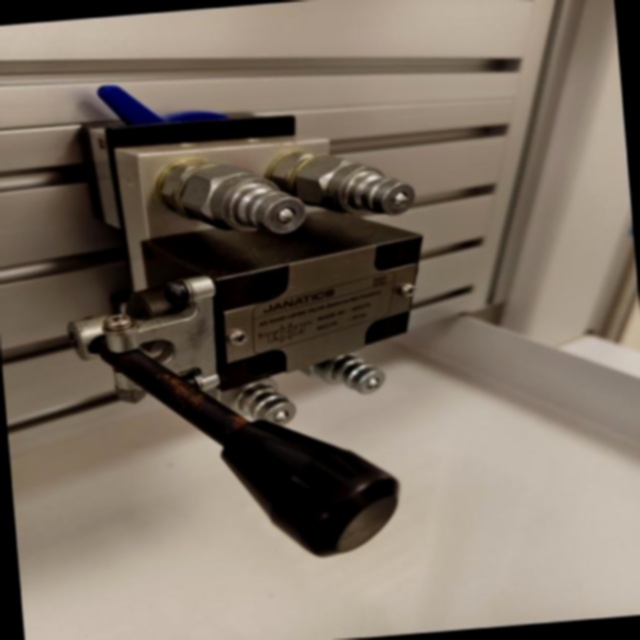4by3 hand lever valve: (44, 49, 460, 580)
